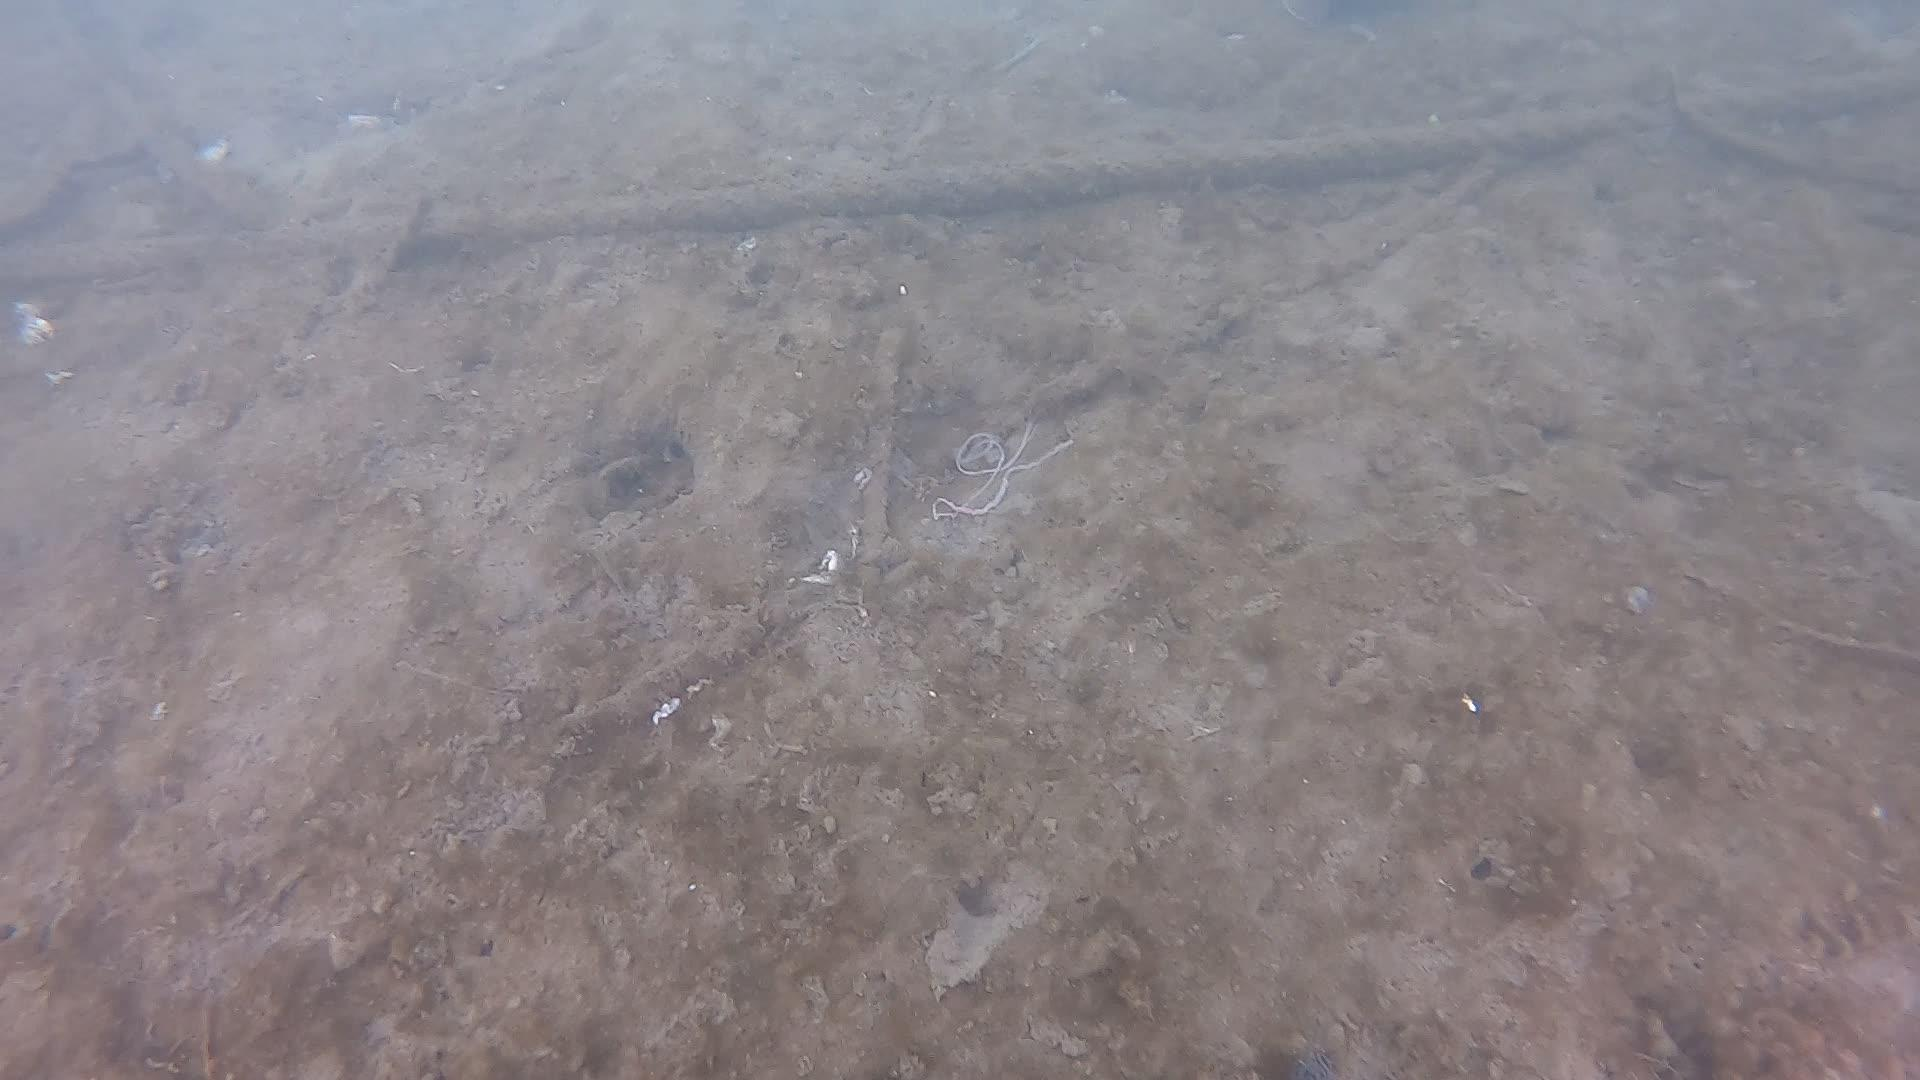rope: (0, 63, 1916, 294)
